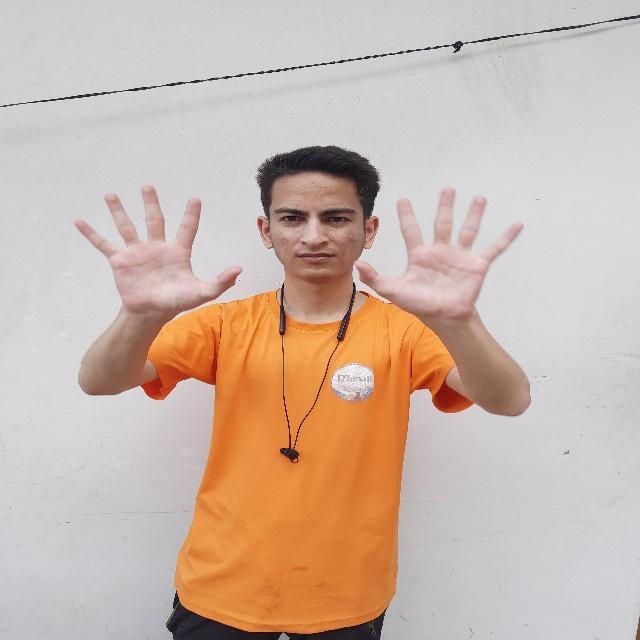Moutza: (65, 172, 250, 335), (348, 178, 534, 331)
